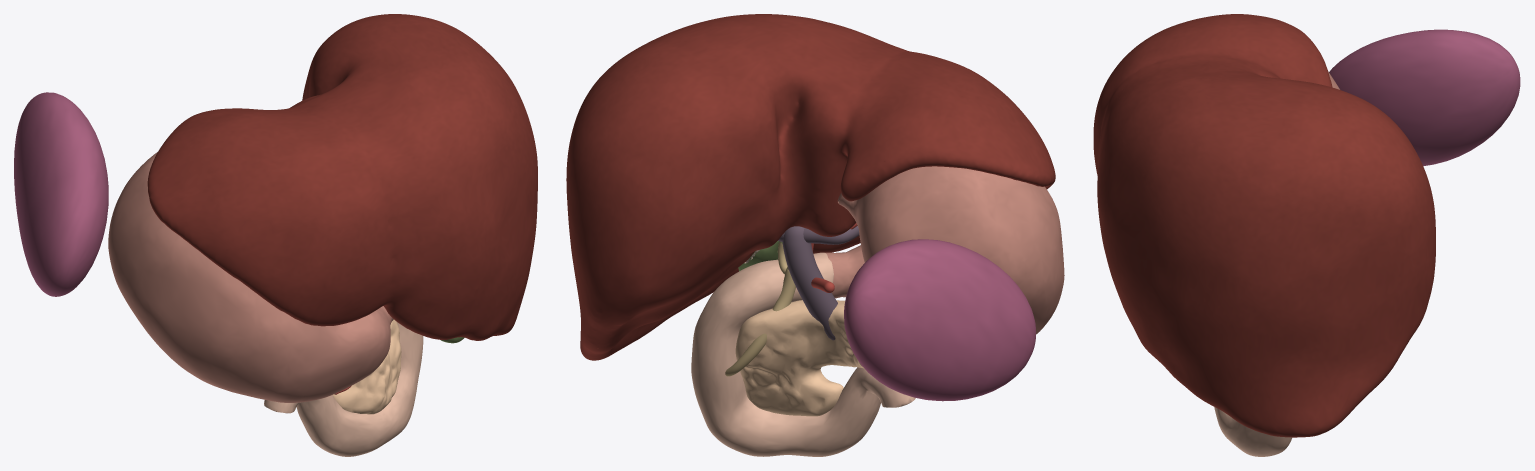
File: anatomy.glb
3 views of the same model, side by side, from view 1: azimuth 30°, elevation 25°; view 2: azimuth 150°, elevation 25°; view 3: azimuth 270°, elevation 25° (orthographic). The views are drawn at different scales.
Visible parts, largest first — view 1: liver, stomach, spleen, duodenum, pancreas; view 2: liver, spleen, stomach, duodenum, pancreas, portal-vein, common-bile-duct; view 3: liver, spleen, duodenum.
Boxes of the visible parts, x1=… form: liver: x1=147, y1=14, x2=537, y2=340; stomach: x1=108, y1=152, x2=393, y2=402; spleen: x1=14, y1=92, x2=108, y2=296; duodenum: x1=264, y1=319, x2=423, y2=456; pancreas: x1=333, y1=319, x2=401, y2=414; liver: x1=566, y1=14, x2=1055, y2=360; spleen: x1=844, y1=239, x2=1035, y2=401; stomach: x1=825, y1=166, x2=1064, y2=334; duodenum: x1=691, y1=252, x2=915, y2=456; pancreas: x1=735, y1=300, x2=864, y2=416; portal-vein: x1=778, y1=226, x2=859, y2=340; common-bile-duct: x1=725, y1=268, x2=795, y2=376; liver: x1=1093, y1=14, x2=1435, y2=437; spleen: x1=1329, y1=29, x2=1520, y2=165; duodenum: x1=1214, y1=407, x2=1292, y2=456.
Bounding box in the file's own units: 0.2398 × 0.1997 × 0.204.
